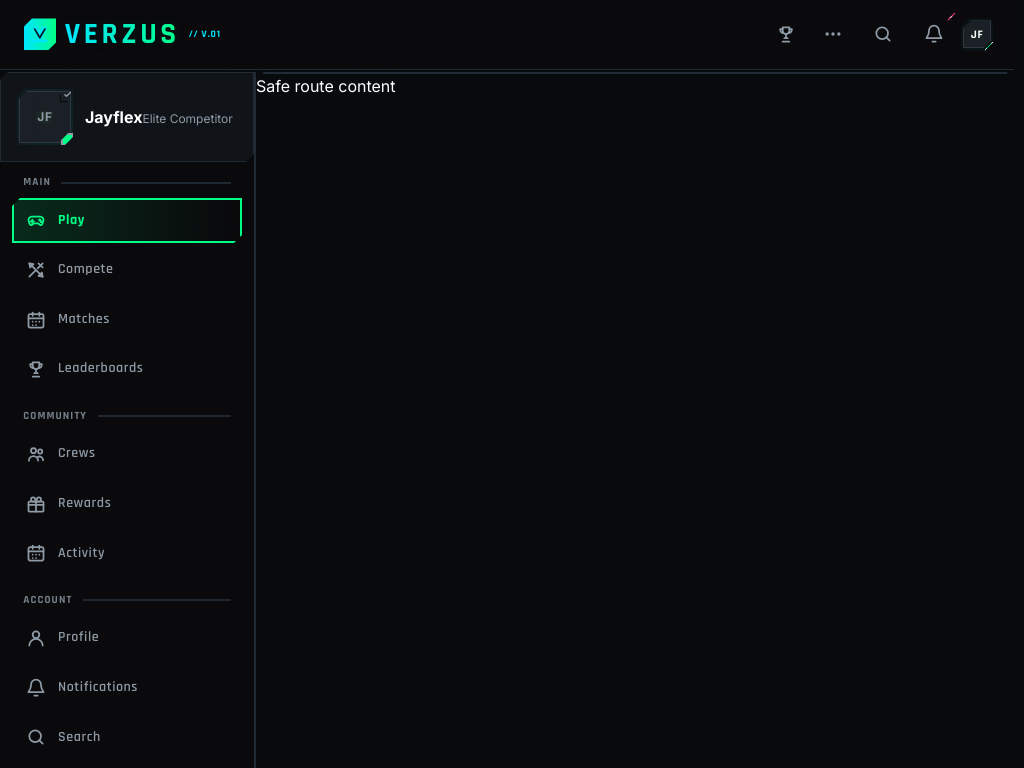
Test: AppShell failure isolation › isolates notification content failure inside the drawer
Step 1. Click the button named "Open notifications, 3 unread" → coordinates (934, 34), box top-left (910, 10), bottom-right (958, 58)
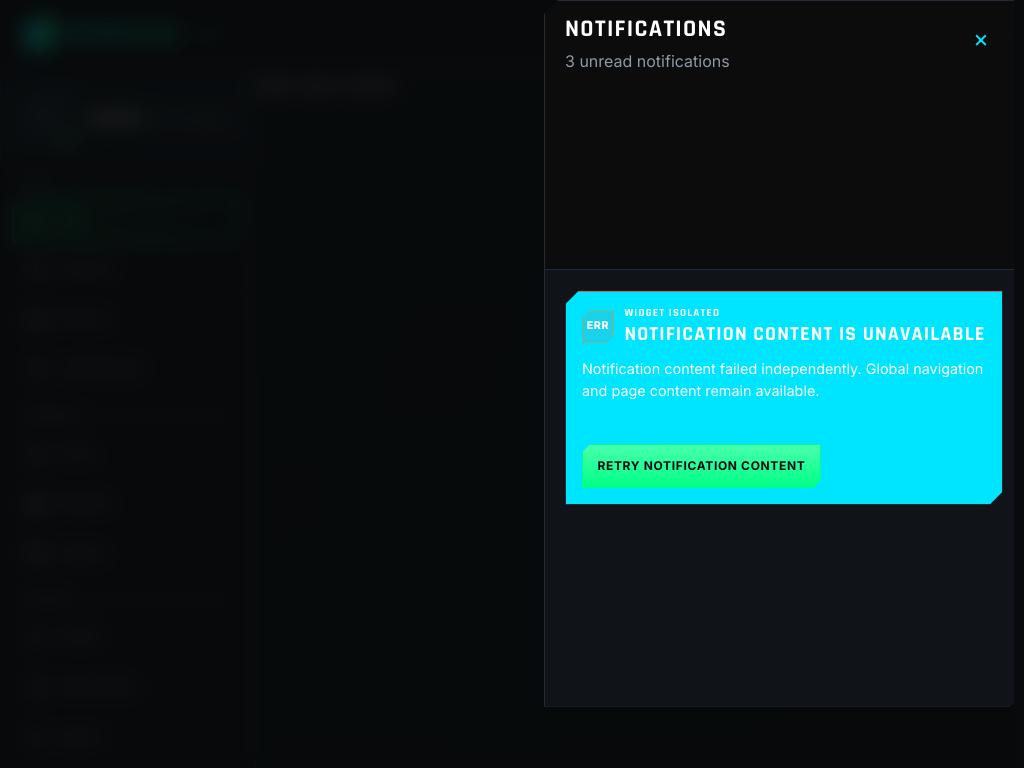
Expected: the heading "Notification content is unavailable" is shown, top-left (624, 323), bottom-right (986, 346)
